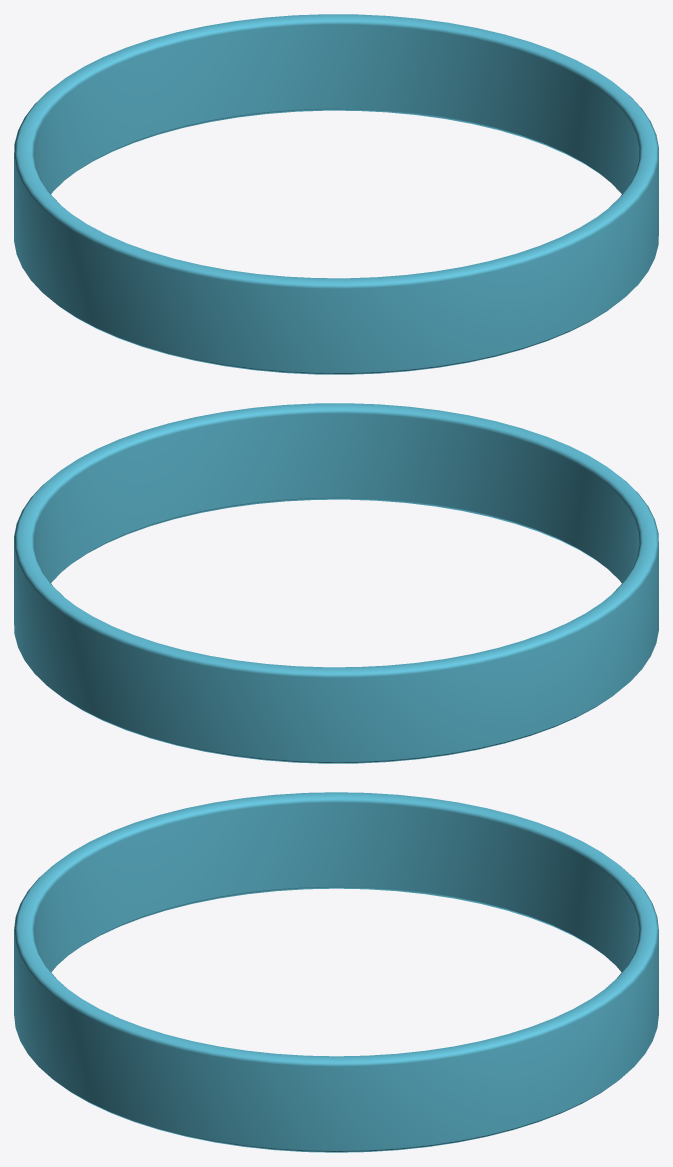
3 views of the same model, one above another, from view 1: azimuth 30°, elevation 25°; view 2: azimuth 150°, elevation 25°; view 3: azimuth 270°, elevation 25° (orthographic).
Parts seen in each view (by area): view 1: seal_body; view 2: seal_body; view 3: seal_body.
Boxes of the visible parts, <box> form: seal_body: <box>14,14,658,374</box>; seal_body: <box>14,403,658,763</box>; seal_body: <box>14,792,658,1152</box>.
Bounding box in the file's own units: 0.1016 × 0.0159 × 0.1016.
